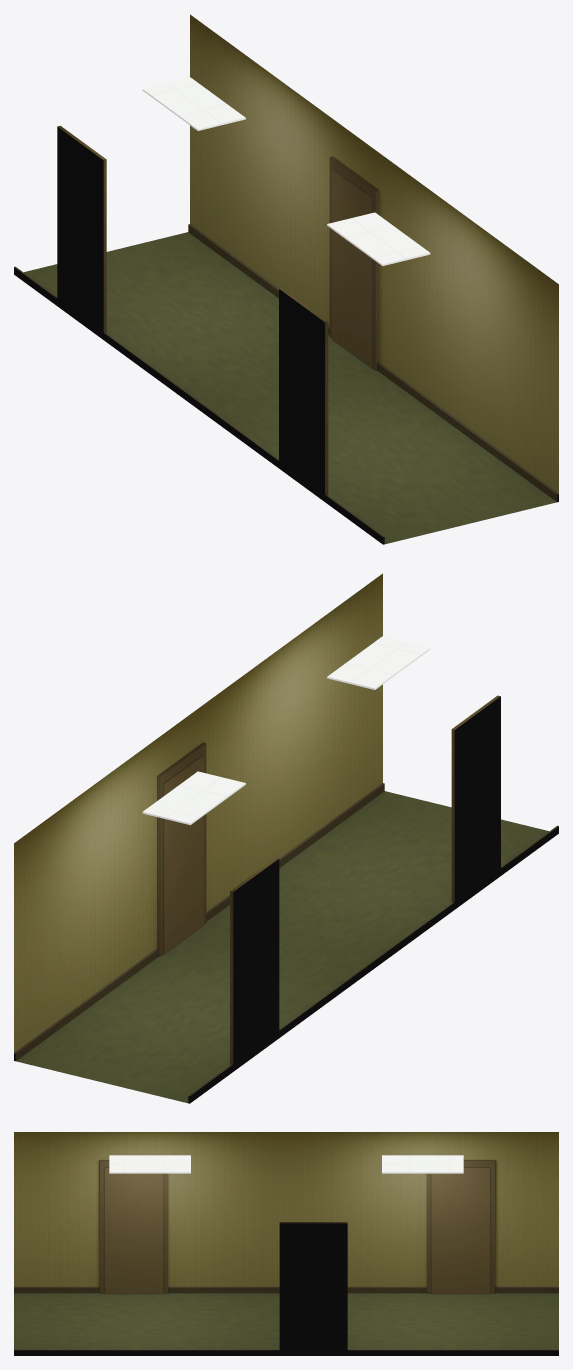
The model's file is corridor.glb.
3 views of the same model, one above another, from view 1: azimuth 30°, elevation 25°; view 2: azimuth 150°, elevation 25°; view 3: azimuth 270°, elevation 25° (orthographic). The views are drawn at different scales.
Parts seen in each view (by area): view 1: corridor_segment; view 2: corridor_segment; view 3: corridor_segment.
Boxes of the visible parts, left/top/right/bottom form: corridor_segment: left=14, top=14, right=558, bottom=544; corridor_segment: left=14, top=573, right=558, bottom=1103; corridor_segment: left=14, top=1132, right=558, bottom=1355.
Size of the model in its own units: 2.2 by 2.6 by 8.
Materials: 9 (9 with a texture image).
